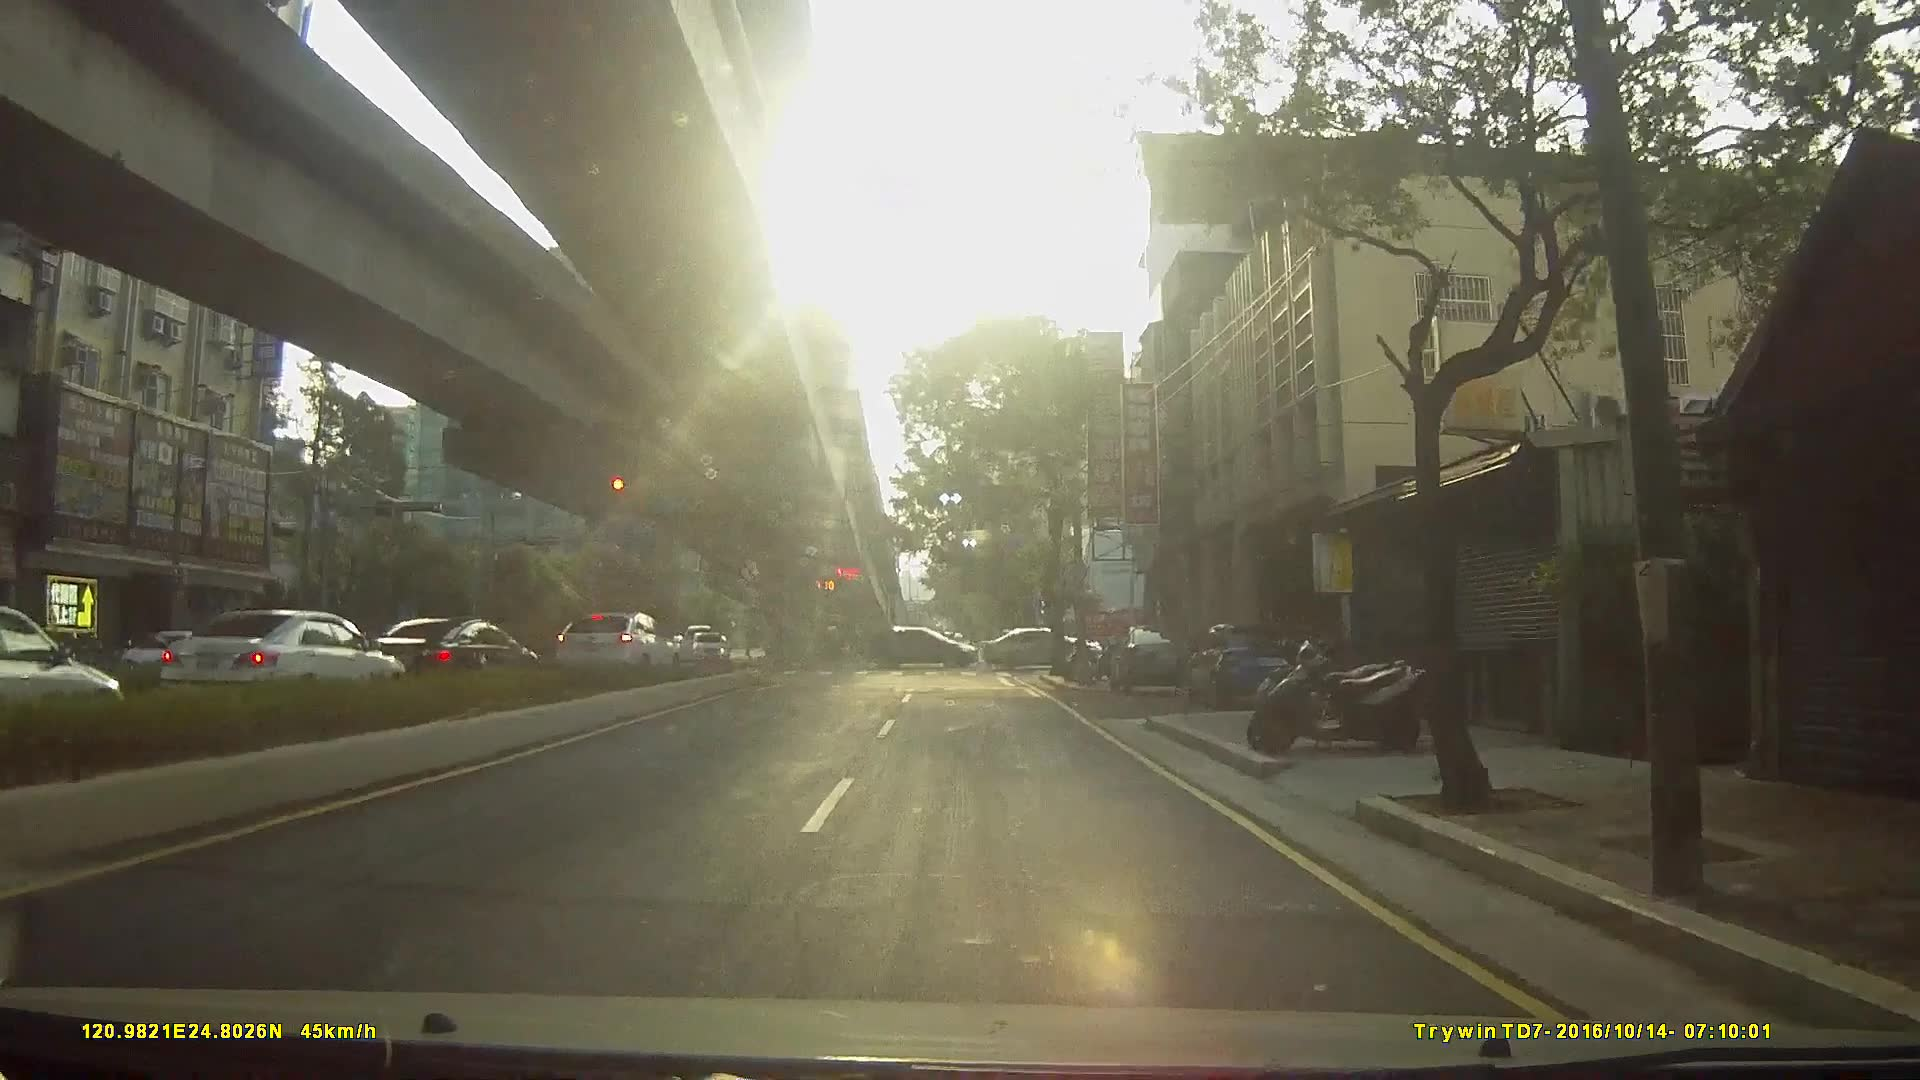vehicle: (138, 607, 397, 709), (1, 611, 125, 740), (360, 613, 535, 687), (1188, 618, 1303, 711), (549, 607, 679, 674), (1106, 618, 1201, 694), (988, 624, 1106, 670), (872, 624, 982, 670), (688, 629, 731, 666)
